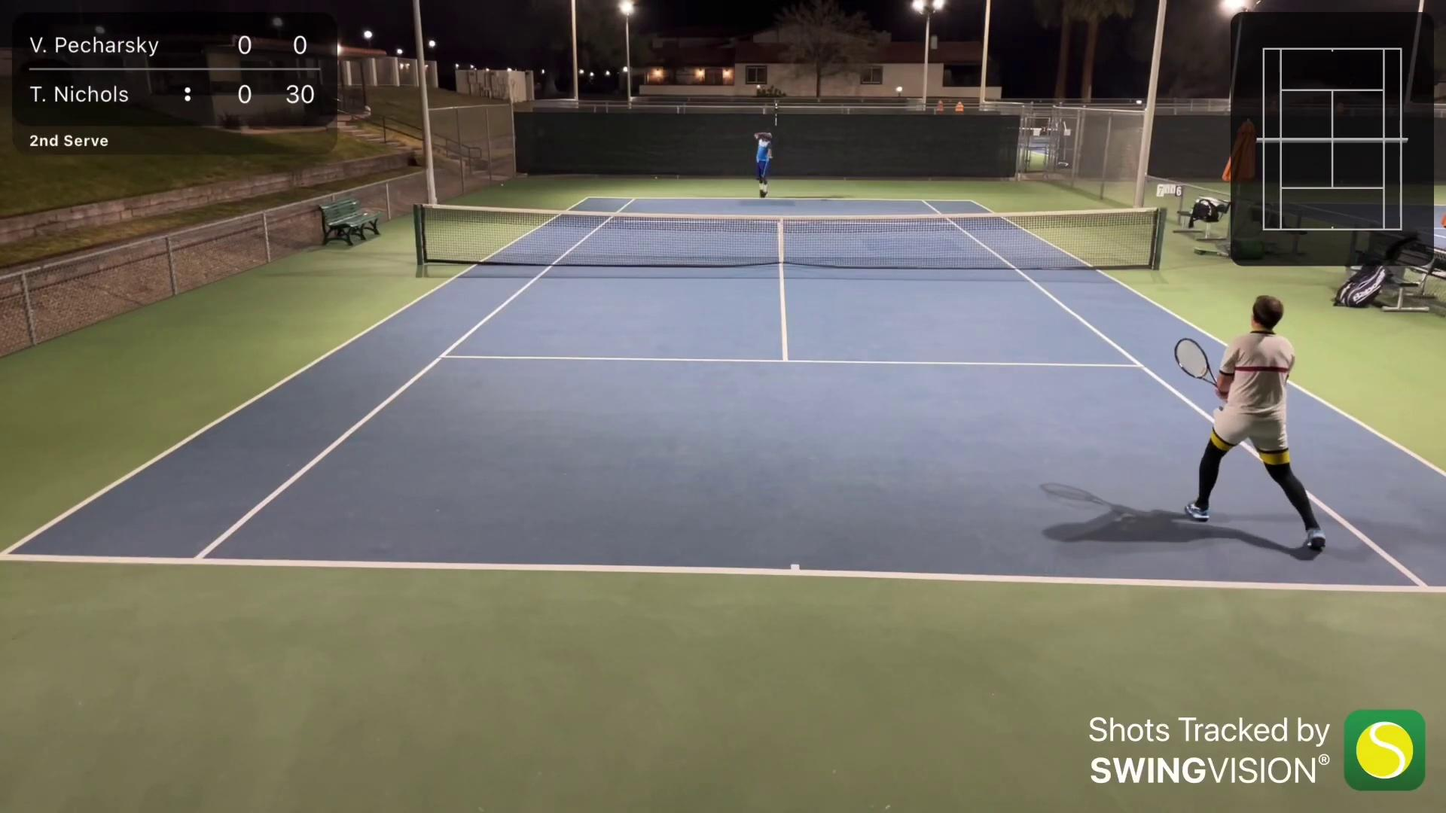ball: (755, 83, 762, 89)
